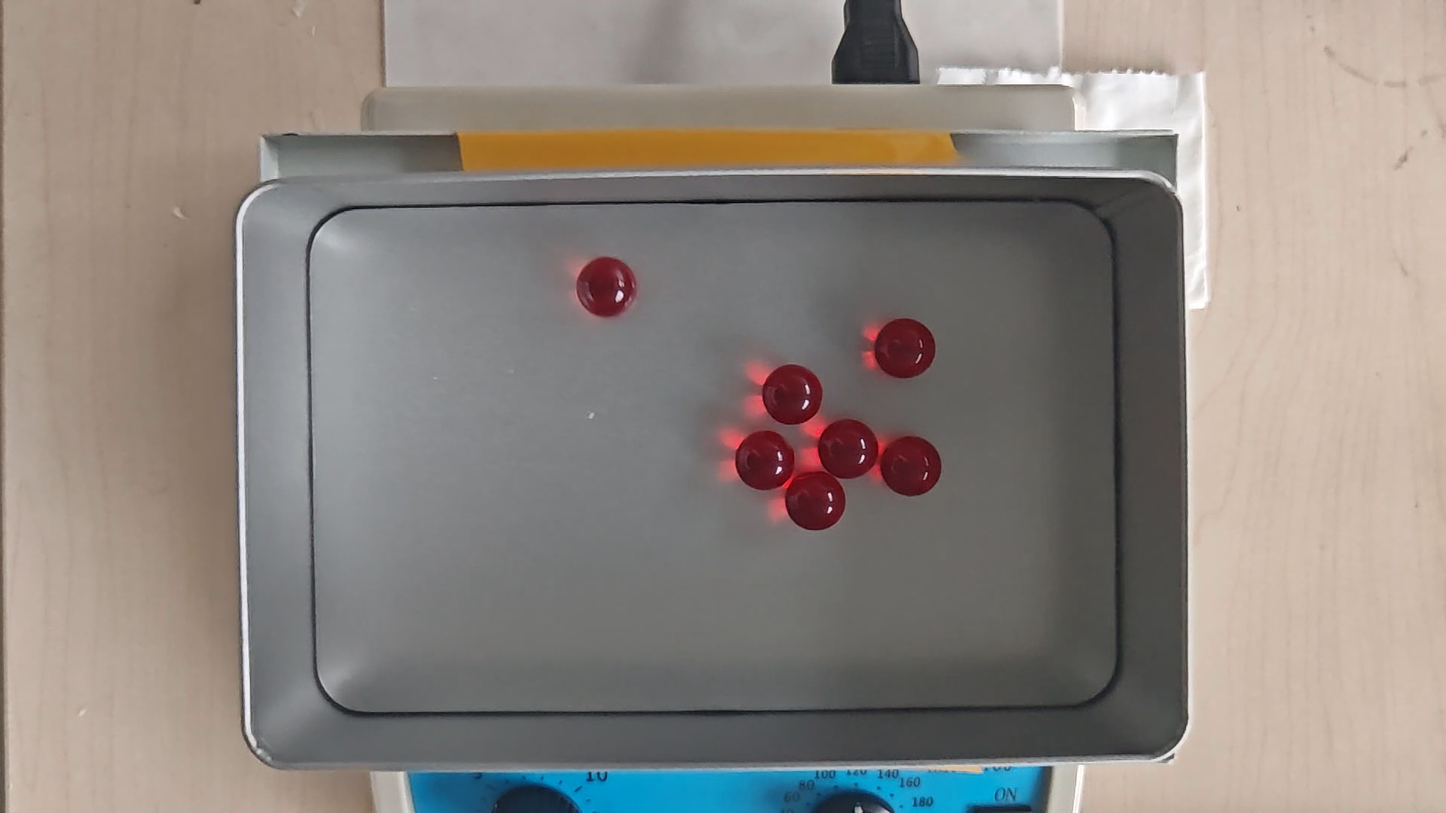ball: (762, 364, 822, 426), (883, 436, 942, 499), (734, 430, 794, 491), (875, 317, 934, 379), (787, 472, 846, 531), (577, 256, 634, 316), (822, 419, 877, 478)
container: (307, 202, 1118, 714)
